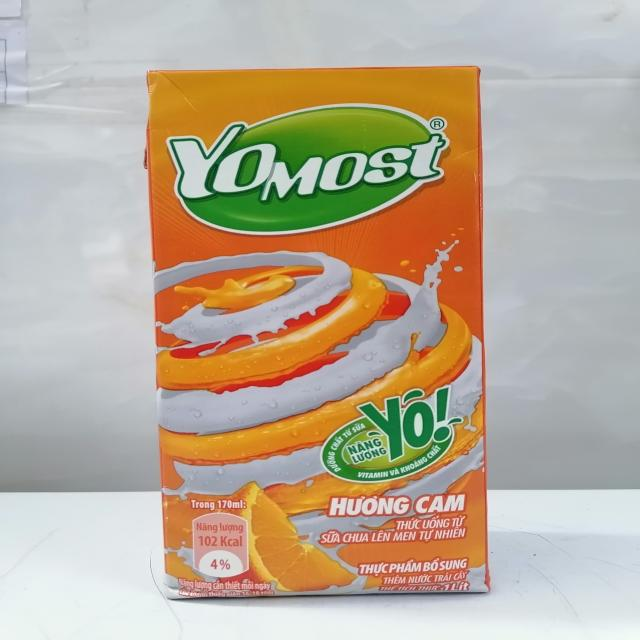non_white_jug: (122, 50, 532, 627)
